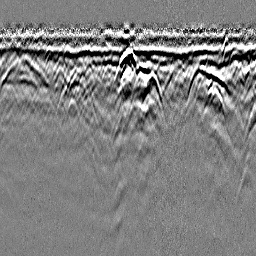cavity: (115, 44, 139, 79)
